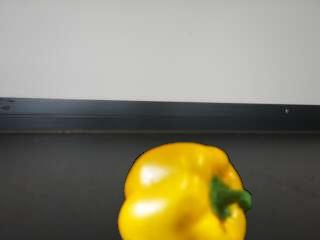Capsicum: (117, 140, 255, 240)
